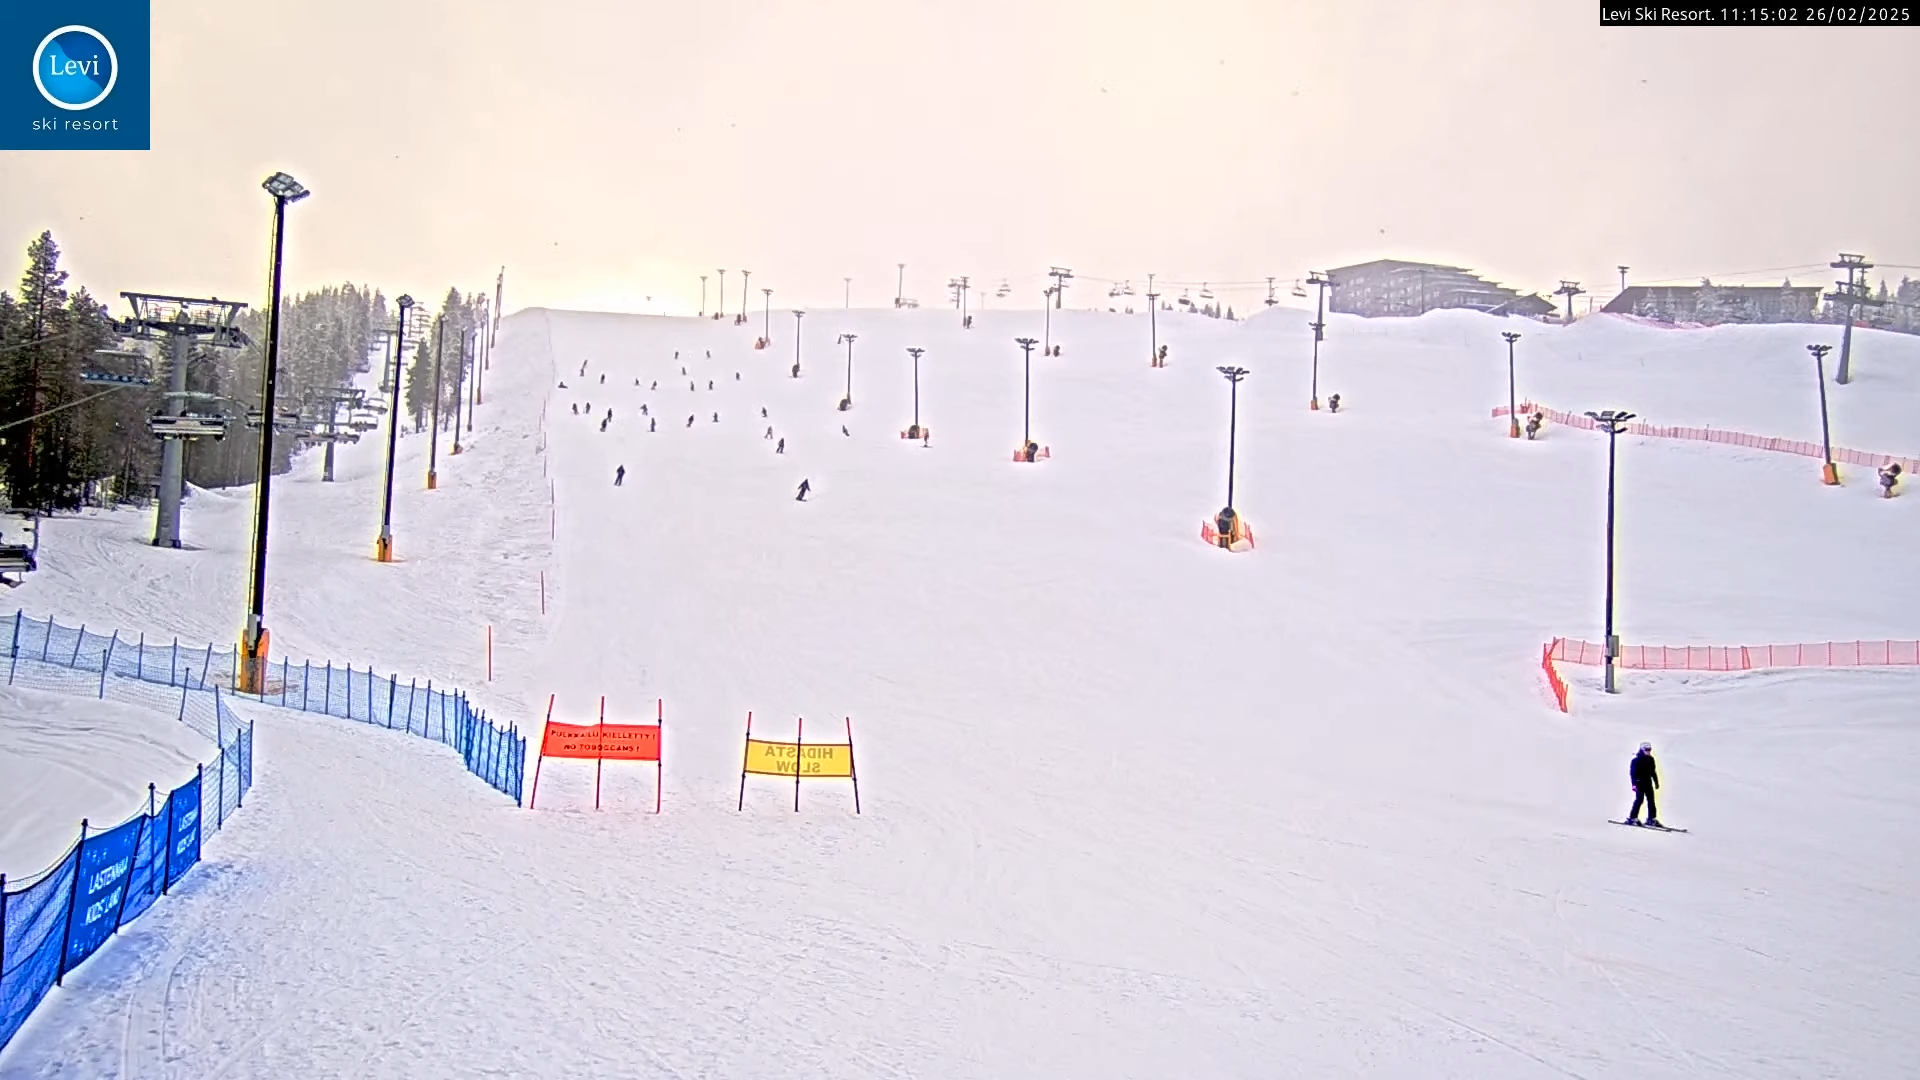skier: (1609, 736, 1688, 833)
